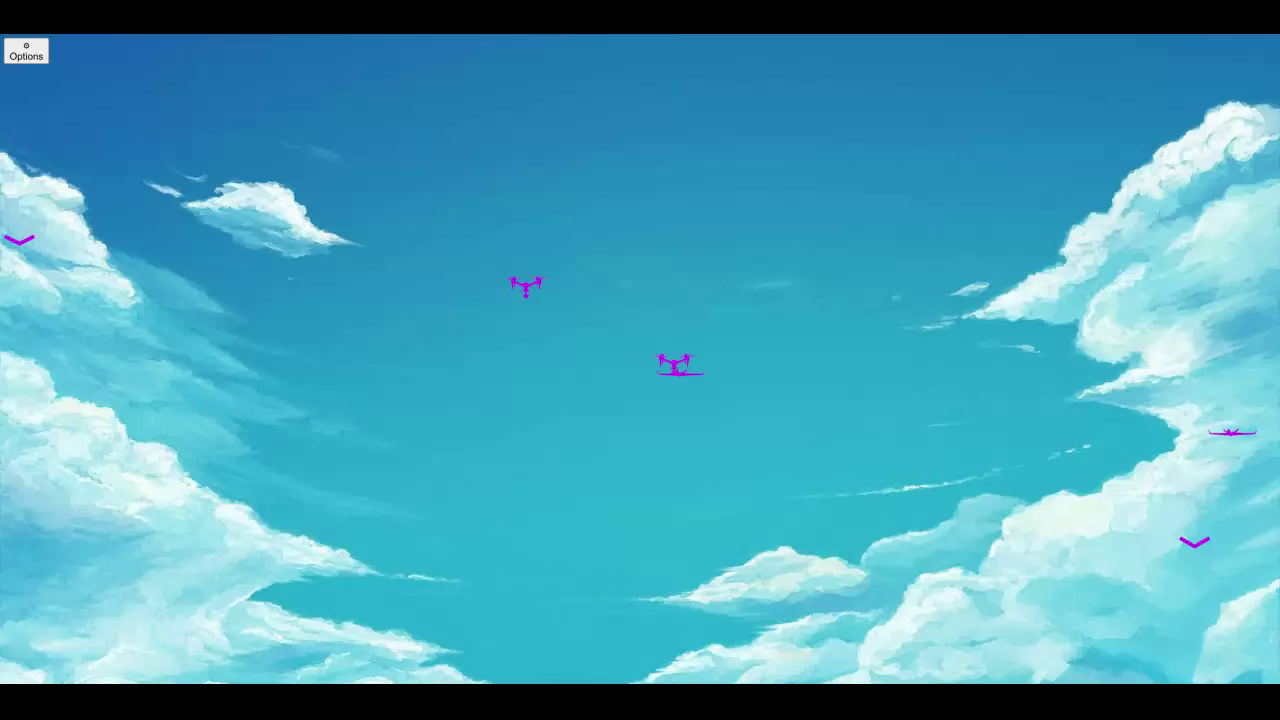Bird: (0, 229, 54, 261), (1166, 533, 1217, 560)
Drone: (643, 350, 713, 393), (1193, 417, 1263, 450)
Quadcopter: (503, 269, 555, 312), (641, 342, 694, 380)
